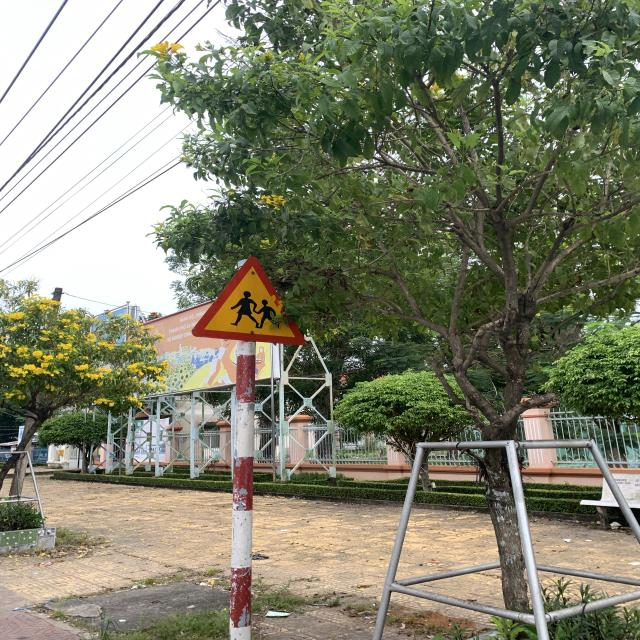Vong_Xuyen: (190, 256, 306, 346)
